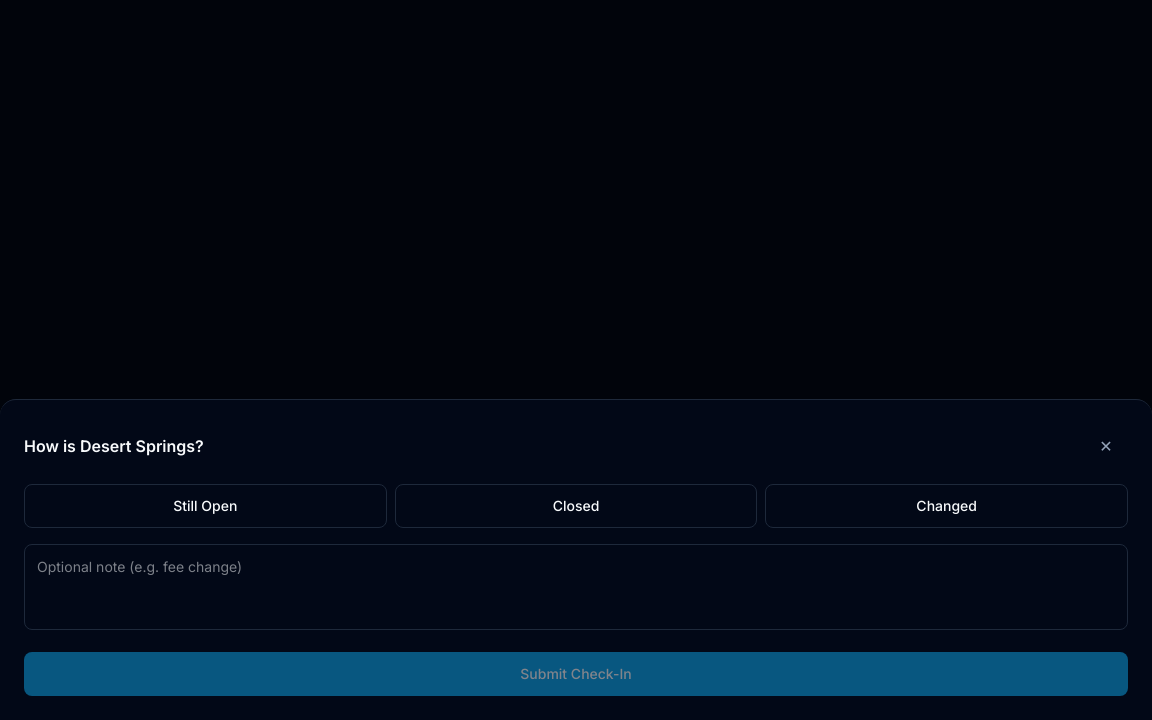
Test: CheckInForm › submit button is enabled after selecting a status (7.6)
Click the button "Still Open": (205,506) [24,484,387,528]
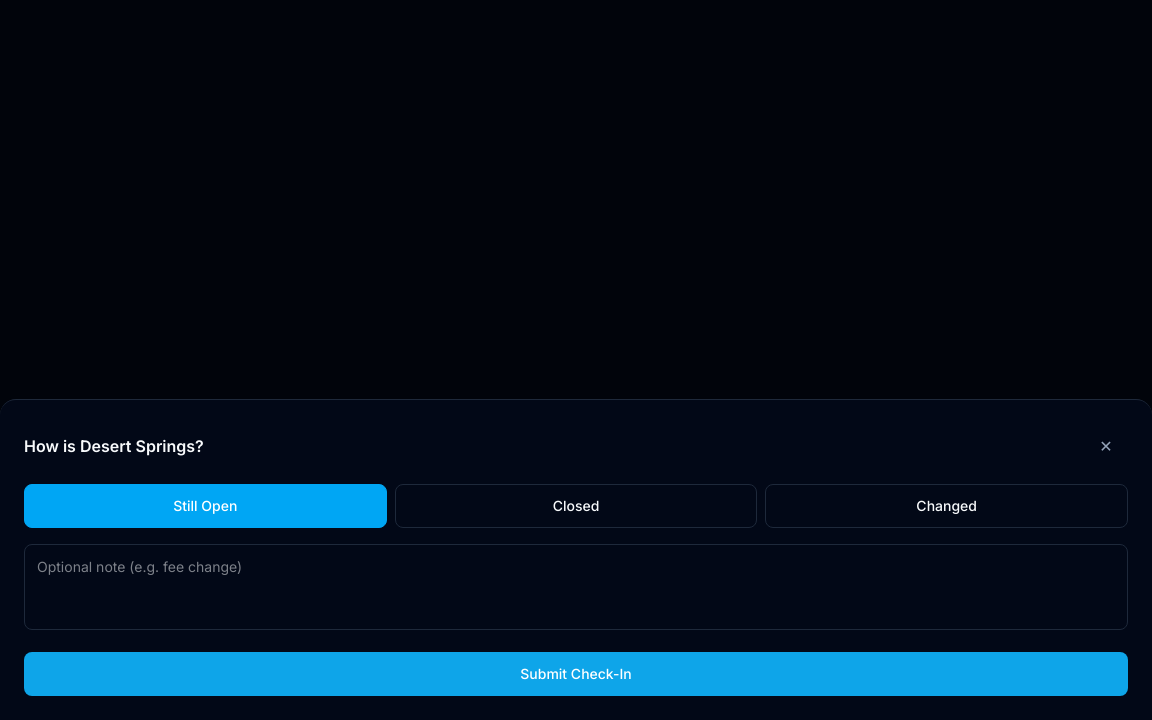
Expected: the button "Submit Check-In" is enabled, [24,652,1128,696]
